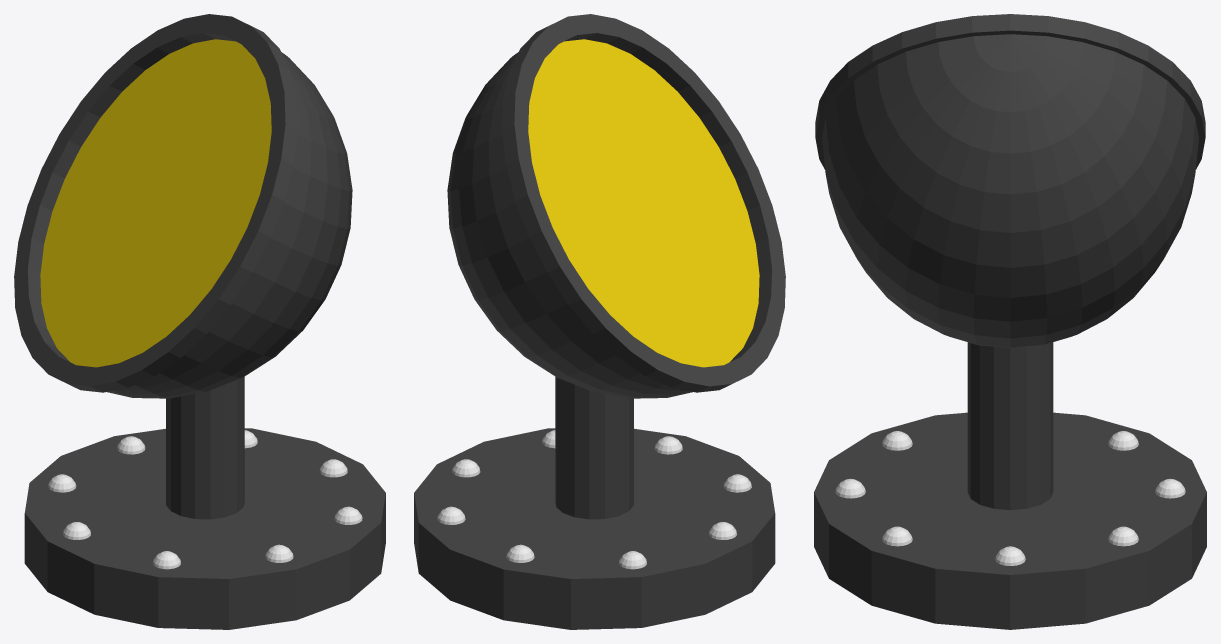
File: LightShooter.fbx
The picture shows the model from 3 angles, left to right: view 1: azimuth 30°, elevation 25°; view 2: azimuth 150°, elevation 25°; view 3: azimuth 270°, elevation 25°; orthographic projection. The views are drawn at different scales.
Visible parts, largest first — view 1: Sphere, Cylinder, Sphere.002; view 2: Sphere, Cylinder, Sphere.002; view 3: Sphere, Cylinder, Sphere.002.
Part boxes in pixels (bbox=[...]): Sphere: bbox=[14, 14, 352, 398]; Cylinder: bbox=[24, 377, 385, 629]; Sphere.002: bbox=[48, 430, 362, 569]; Sphere: bbox=[447, 14, 785, 398]; Cylinder: bbox=[414, 377, 775, 629]; Sphere.002: bbox=[437, 430, 751, 569]; Sphere: bbox=[815, 14, 1205, 347]; Cylinder: bbox=[814, 342, 1206, 629]; Sphere.002: bbox=[835, 431, 1185, 565].
Bounding box in the file's own units: 80.15 × 125 × 80.15.
